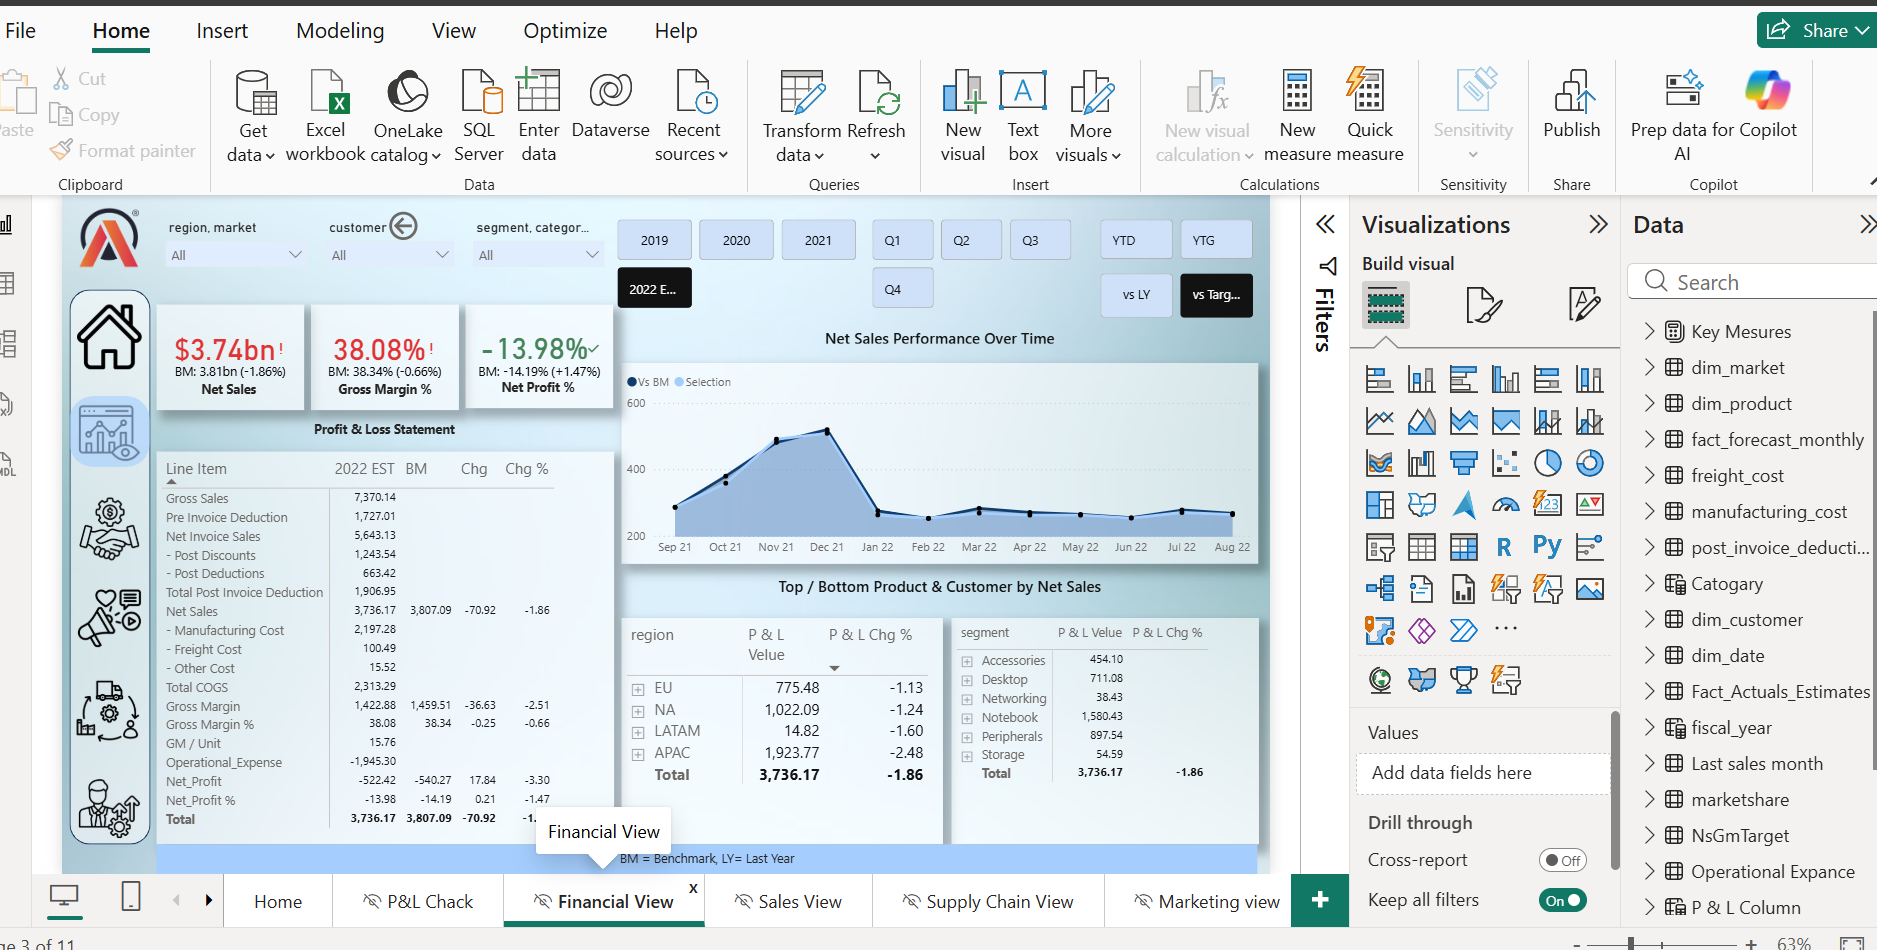

This screenshot's page, from the dashboard's own definition file:
{"tool":"powerbi","page":{"name":"Financial View","canvas":[1280,720],"ordinal":2},"visuals":[{"type":"advancedSlicerVisual","fields":{"Values":["fiscal_year.FY Desc"]},"box":[583.3,20,264,105.6],"z":0},{"type":"pivotTable","fields":{"Columns":["P & L Column.Col Header"],"Rows":["P & L Rows.Line Item"],"Values":["Key Mesures.Final P & L velue"]},"box":[100.2,272,485.1,416.7],"z":1000},{"type":"advancedSlicerVisual","fields":{"Values":["dim_date.Quarter"]},"box":[854.2,20.7,223.3,105],"z":2000},{"type":"advancedSlicerVisual","fields":{"Values":["dim_date.YTD_YTG"]},"box":[1095.9,20.7,173.4,52.5],"z":3000},{"type":"areaChart","fields":{"Category":["dim_date.Date"],"Y":["Key Mesures.P & L BM $","Key Mesures.P & L Velue"]},"box":[593.6,177.6,675.2,212.8],"z":4000},{"type":"pivotTable","fields":{"Rows":[" dim_market.region"," dim_market.market","dim_customer.customer"],"Values":["Key Mesures.P & L Velue","Key Mesures.P & l YOY Chg %"]},"box":[593.3,448.6,340.4,240.2],"z":5000},{"type":"pivotTable","fields":{"Rows":[" dim_product.segment"," dim_product.category"," dim_product.product"],"Values":["Key Mesures.P & L Velue","Key Mesures.P & l YOY Chg %"]},"box":[943.2,448.6,326.1,240.2],"z":6000},{"type":"actionButton","box":[341.7,13.3,100,40],"z":7000},{"type":"cardVisual","fields":{"Data":["Key Mesures.Performace Visual Title"]},"box":[593.6,126.4,675.2,49.6],"z":8000},{"type":"cardVisual","fields":{"Data":["Key Mesures.Top / Bottom  N Title"]},"box":[593.6,379.2,675.2,68.8],"z":9000},{"type":"textbox","box":[100.8,233.6,483.2,38.4],"z":10000},{"type":"slicer","fields":{"Values":[" dim_market.region"," dim_market.market"]},"box":[100.8,20.8,169.6,65.6],"z":11000},{"type":"slicer","fields":{"Values":[" dim_product.segment"," dim_product.category"," dim_product.product"]},"box":[425.6,20.8,158.4,65.6],"z":12000},{"type":"slicer","fields":{"Values":["dim_customer.customer"]},"box":[270.4,20.8,155.2,65.6],"z":13000},{"type":"kpi","fields":{"Goal":["Key Mesures.NS BM $"],"Indicator":["Key Mesures.Net Sales $"],"TrendLine":[" freight_cost.fiscal_year"]},"box":[100.2,116.1,156.7,111.7],"z":14000},{"type":"textbox","box":[100,191.7,156.7,28.3],"z":15000},{"type":"kpi","fields":{"Goal":["Key Mesures.GM % BM"],"Indicator":["Key Mesures.Gross Margin %"],"TrendLine":[" freight_cost.fiscal_year"]},"box":[264,116.1,156.7,111.7],"z":16000},{"type":"kpi","fields":{"Goal":["Key Mesures.NP % BM"],"Indicator":["Key Mesures.Net_Profit %"],"TrendLine":[" freight_cost.fiscal_year"]},"box":[427.9,116.1,156.7,110],"z":17000},{"type":"textbox","box":[263.3,191.7,156.7,28.3],"z":18000},{"type":"textbox","box":[426.7,190,156.7,28.3],"z":19000},{"type":"shape","box":[8,100.2,85.9,588.5],"z":20000},{"type":"image","box":[8.2,13.1,85.2,63.9],"z":21000},{"type":"image","box":[16.4,213.1,68.9,78.7],"z":22000},{"type":"image","box":[16.4,116.4,68.9,68.9],"z":23000},{"type":"image","box":[16.4,411.5,68.9,73.8],"z":24000},{"type":"image","box":[16.4,318,68.9,72.1],"z":25000},{"type":"image","box":[14.3,509,68.9,77],"z":26000},{"type":"image","box":[15.9,612.4,68.9,77],"z":27000},{"type":"shape","box":[8.2,213.1,85.2,75.4],"z":28000},{"type":"textbox","box":[100.2,688.7,1167.5,31.8],"z":29000},{"type":"advancedSlicerVisual","fields":{"Values":["Set BM.Benchmark"]},"box":[1096.6,78,173.4,57.3],"z":30000},{"type":"cardVisual","fields":{"Data":["Key Mesures.BM Massage"]},"box":[100.2,65.2,482,63.6],"z":31000}]}

Visuals, with their boxes on the page's 1280x720 design canvas (x1, y1, x2, y2). These are canvas units, not pixel positions in the 1877x950 screenshot, which may show the page scaled, cropped or inside an application window:
advancedSlicerVisual - fiscal_year.FY Desc: x1=583, y1=20, x2=847, y2=126
pivotTable - P & L Column.Col Header x P & L Rows.Line Item: x1=100, y1=272, x2=585, y2=689
advancedSlicerVisual - dim_date.Quarter: x1=854, y1=21, x2=1078, y2=126
advancedSlicerVisual - dim_date.YTD_YTG: x1=1096, y1=21, x2=1269, y2=73
areaChart - dim_date.Date x Key Mesures.P & L BM $: x1=594, y1=178, x2=1269, y2=390
pivotTable -  dim_market.region x  dim_market.market: x1=593, y1=449, x2=934, y2=689
pivotTable -  dim_product.segment x  dim_product.category: x1=943, y1=449, x2=1269, y2=689
actionButton: x1=342, y1=13, x2=442, y2=53
cardVisual - Key Mesures.Performace Visual Title: x1=594, y1=126, x2=1269, y2=176
cardVisual - Key Mesures.Top / Bottom  N Title: x1=594, y1=379, x2=1269, y2=448
textbox: x1=101, y1=234, x2=584, y2=272
slicer -  dim_market.region x  dim_market.market: x1=101, y1=21, x2=270, y2=86
slicer -  dim_product.segment x  dim_product.category: x1=426, y1=21, x2=584, y2=86
slicer - dim_customer.customer: x1=270, y1=21, x2=426, y2=86
kpi - Key Mesures.NS BM $ x Key Mesures.Net Sales $: x1=100, y1=116, x2=257, y2=228
textbox: x1=100, y1=192, x2=257, y2=220
kpi - Key Mesures.GM % BM x Key Mesures.Gross Margin %: x1=264, y1=116, x2=421, y2=228
kpi - Key Mesures.NP % BM x Key Mesures.Net_Profit %: x1=428, y1=116, x2=585, y2=226
textbox: x1=263, y1=192, x2=420, y2=220
textbox: x1=427, y1=190, x2=583, y2=218
shape: x1=8, y1=100, x2=94, y2=689
image: x1=8, y1=13, x2=93, y2=77
image: x1=16, y1=213, x2=85, y2=292
image: x1=16, y1=116, x2=85, y2=185
image: x1=16, y1=412, x2=85, y2=485
image: x1=16, y1=318, x2=85, y2=390
image: x1=14, y1=509, x2=83, y2=586
image: x1=16, y1=612, x2=85, y2=689
shape: x1=8, y1=213, x2=93, y2=288
textbox: x1=100, y1=689, x2=1268, y2=720
advancedSlicerVisual - Set BM.Benchmark: x1=1097, y1=78, x2=1270, y2=135
cardVisual - Key Mesures.BM Massage: x1=100, y1=65, x2=582, y2=129
